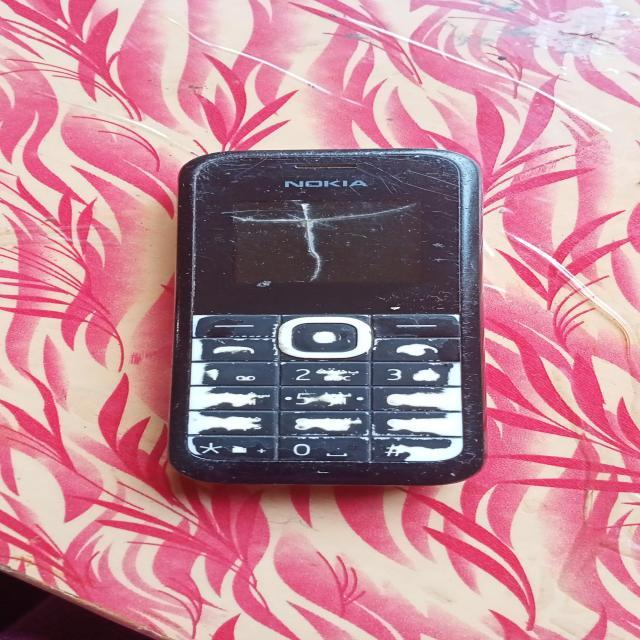phone: (170, 142, 502, 496)
